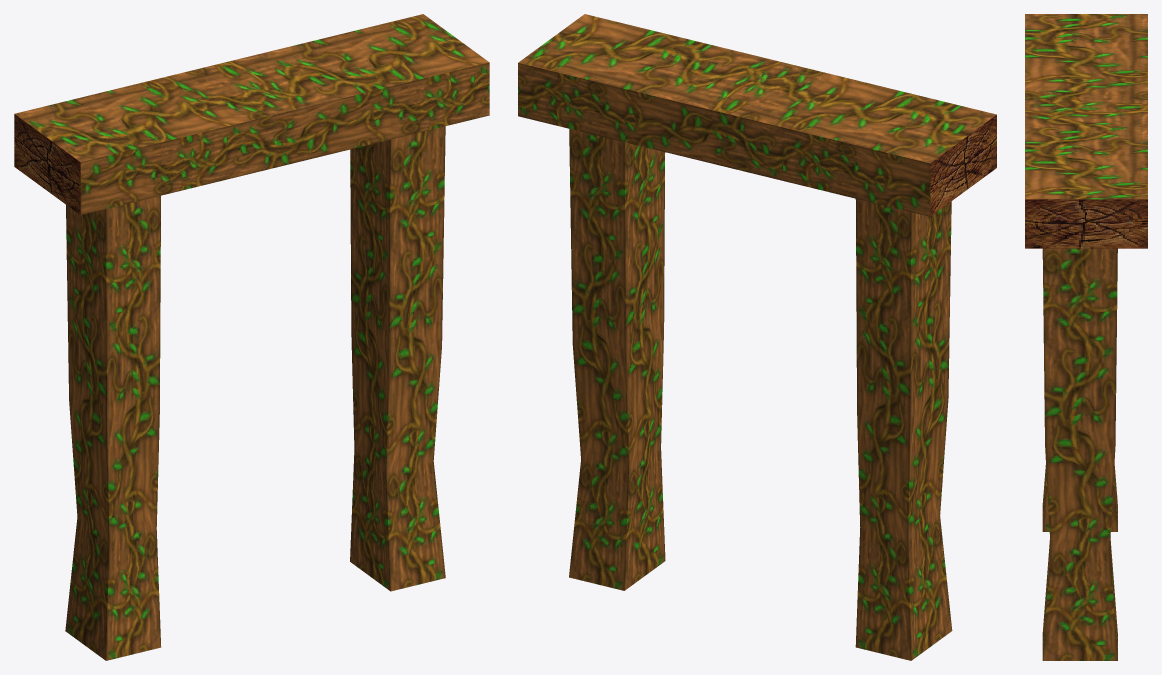
Rendered from EKH_GROTTO_PS_GR_DOORFRAME8476__GX.fbx.
The picture shows the model from 3 angles, left to right: view 1: azimuth 30°, elevation 25°; view 2: azimuth 150°, elevation 25°; view 3: azimuth 270°, elevation 25°; orthographic projection. The views are drawn at different scales.
Visible parts, largest first — view 1: EKH_GROTTO_PS_GR_DOORFRAME8476__GX; view 2: EKH_GROTTO_PS_GR_DOORFRAME8476__GX; view 3: EKH_GROTTO_PS_GR_DOORFRAME8476__GX.
Boxes of the visible parts, bbox=[...] form: EKH_GROTTO_PS_GR_DOORFRAME8476__GX: bbox=[14, 14, 489, 660]; EKH_GROTTO_PS_GR_DOORFRAME8476__GX: bbox=[518, 14, 996, 660]; EKH_GROTTO_PS_GR_DOORFRAME8476__GX: bbox=[1025, 14, 1147, 660].
Size of the model in its own units: 21220 by 25482 by 5952.
2 materials, 2 textured.
